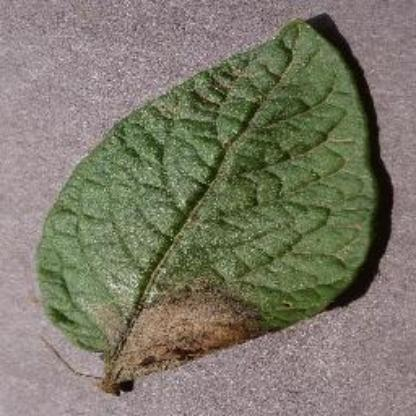Late-Blight: (35, 9, 378, 389)
